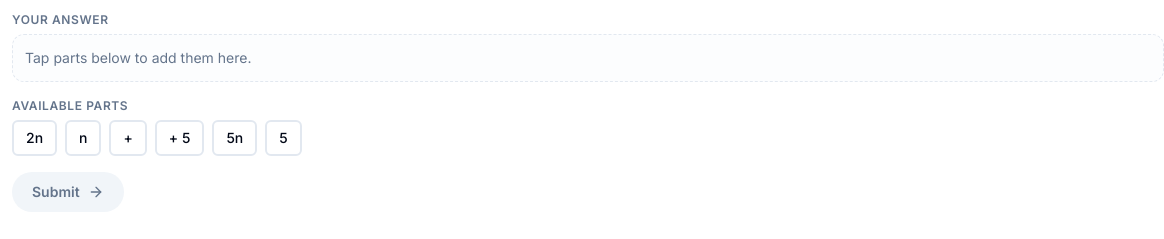
Test: DragDropBuilder › returns a part to the pool when its build chip is clicked
This screenshot has width=1164, height=239.
Click the button named "Add 2n to answer". click: click(35, 138)
box: [12,120,57,156]
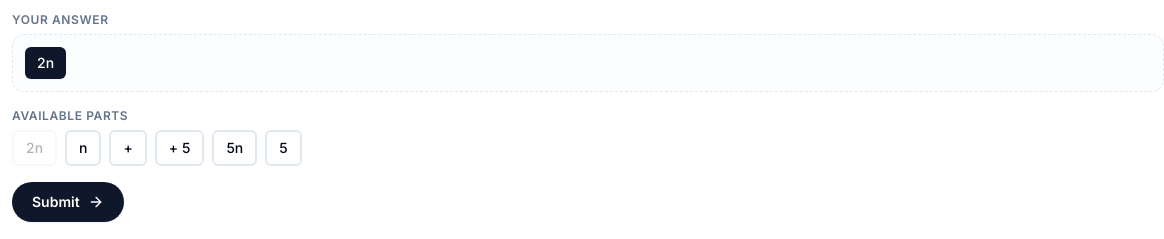
Result: the button named "Add 2n to answer" is disabled at [12,130,57,166]
Click the button named "Remove 2n from answer". click: click(46, 63)
box: [25,47,66,79]
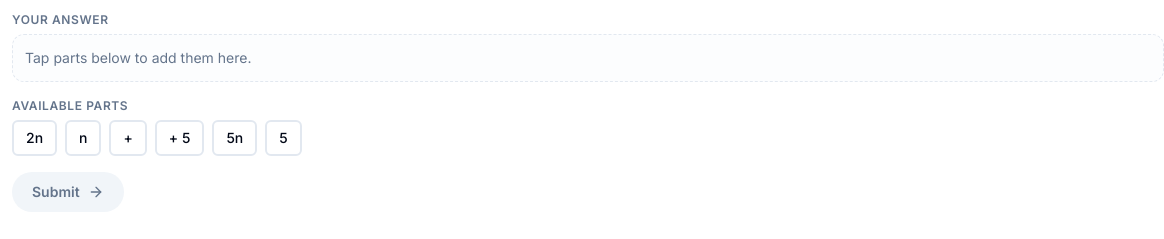
Result: the button named "Add 2n to answer" is enabled at [12,120,57,156]
